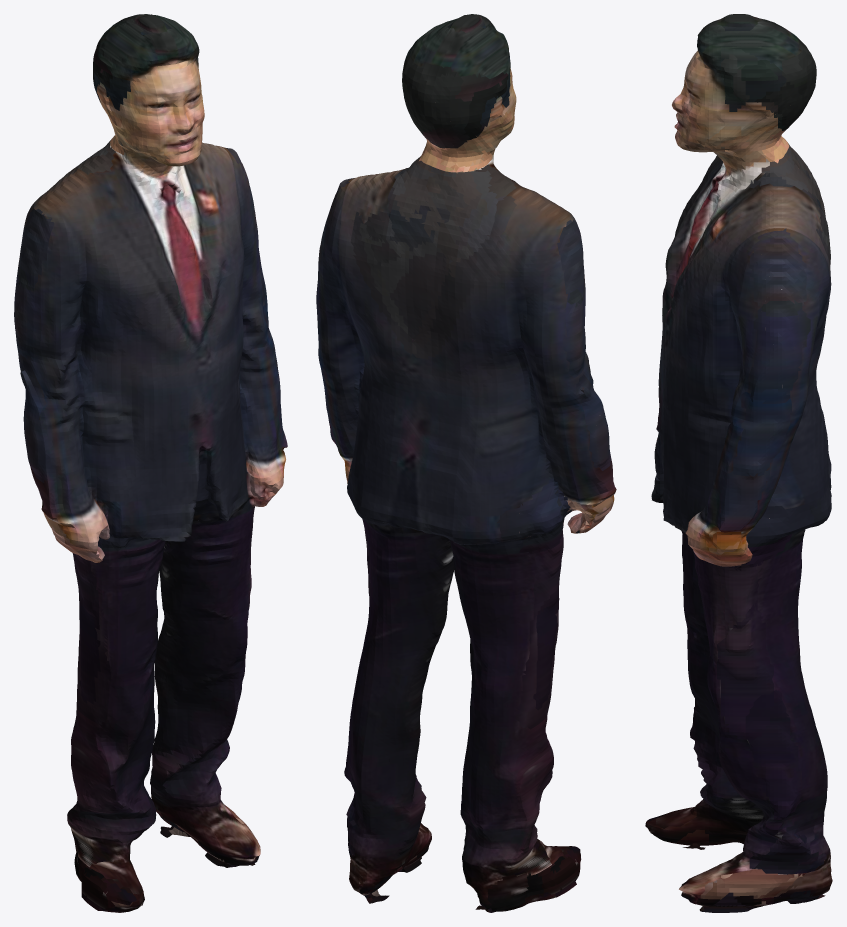
The model's file is VoVanMinh.fbx.
3 views of the same model, side by side, from view 1: azimuth 30°, elevation 25°; view 2: azimuth 150°, elevation 25°; view 3: azimuth 270°, elevation 25° (orthographic).
Visible parts, largest first — view 1: VoVanMinh; view 2: VoVanMinh; view 3: VoVanMinh.
Boxes of the visible parts, left/top/right/bottom form: VoVanMinh: left=14, top=14, right=287, bottom=912; VoVanMinh: left=316, top=14, right=616, bottom=912; VoVanMinh: left=645, top=14, right=832, bottom=912.
Size of the model in its own units: 57.5 by 181 by 35.98.
Materials: 1 (1 with a texture image).
